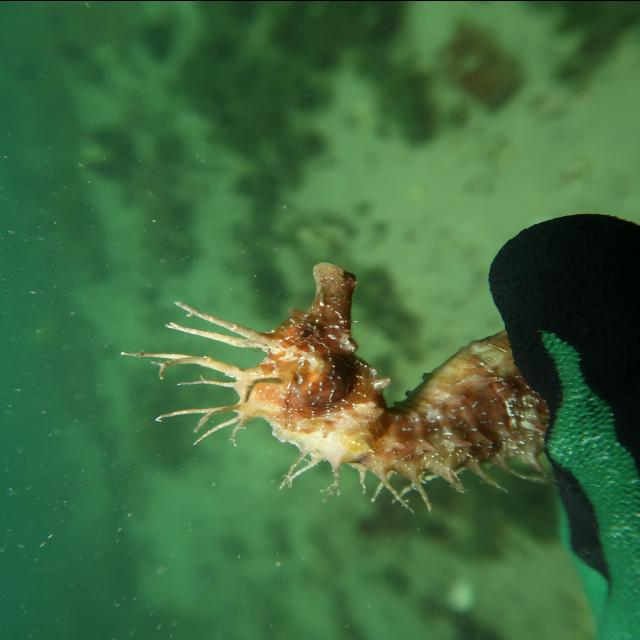Guttu: (216, 255, 398, 451)
